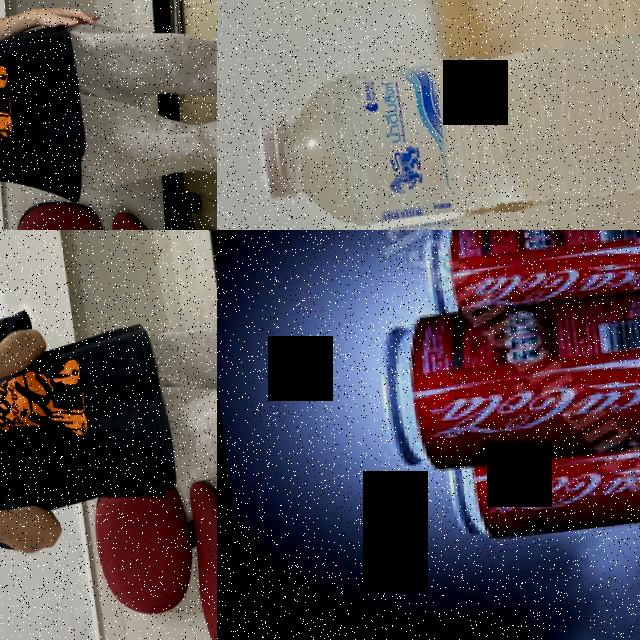bottle: (254, 21, 640, 230), (271, 174, 640, 230)
can: (371, 273, 640, 478), (442, 432, 640, 544), (422, 230, 640, 317)
